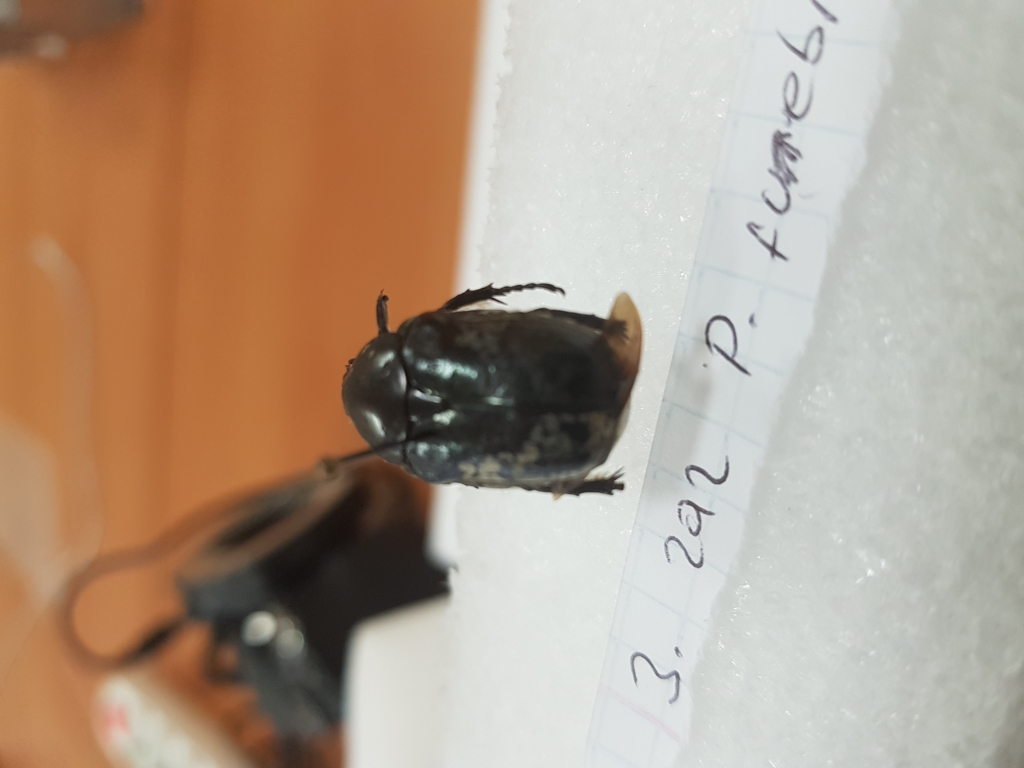Protaetia_funebris_funebris: (320, 266, 677, 495)
